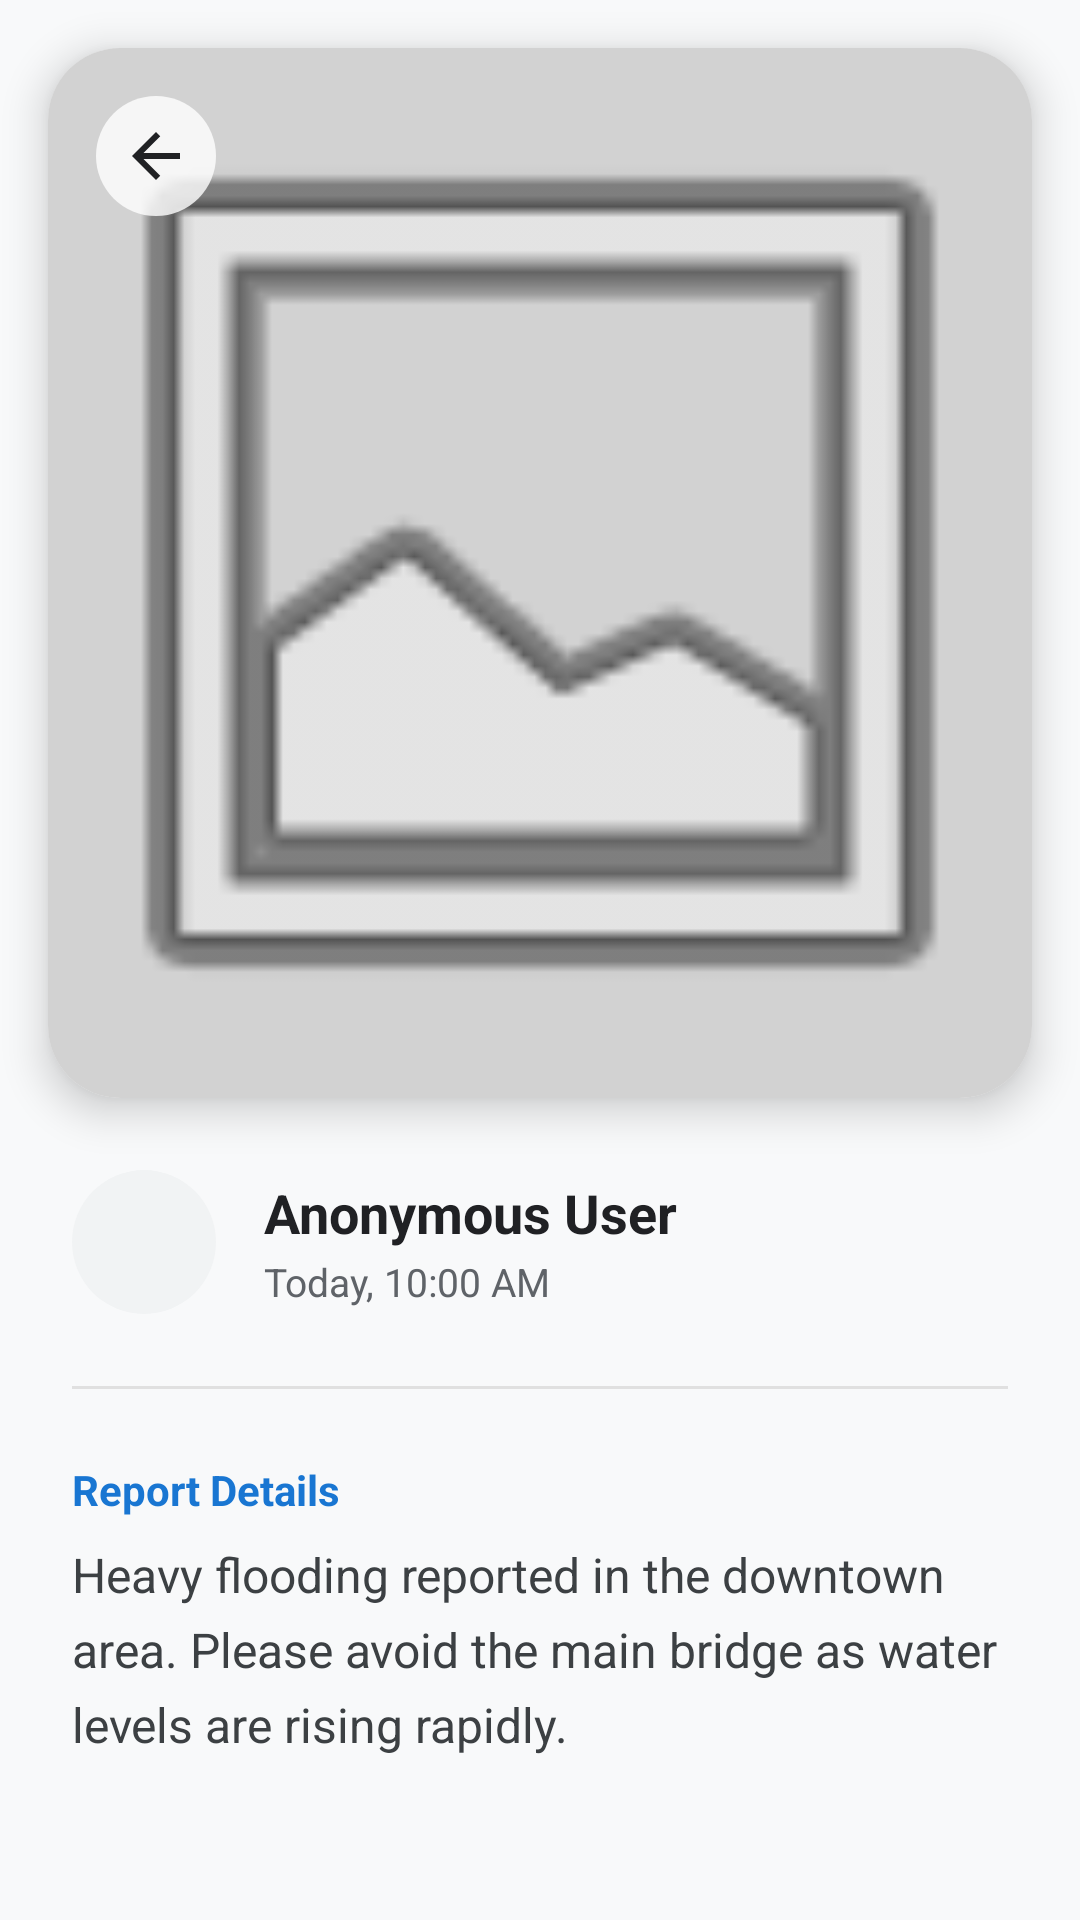

Named icons in this screenshot (1080 x 1920) and their bounding boxes, (x1, y1, x2, y2):
back arrow: (96, 96, 216, 216)
